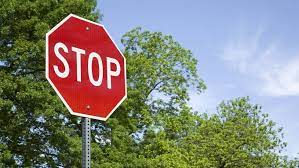stop: (32, 8, 133, 131)
